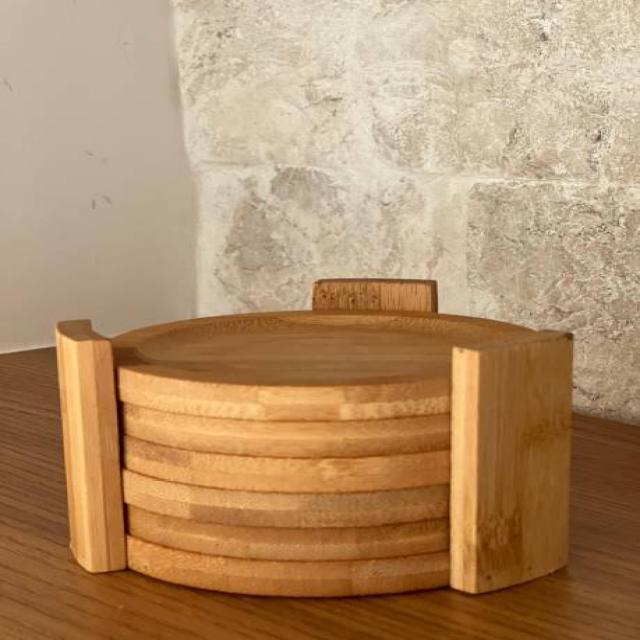table: (0, 326, 639, 638)
